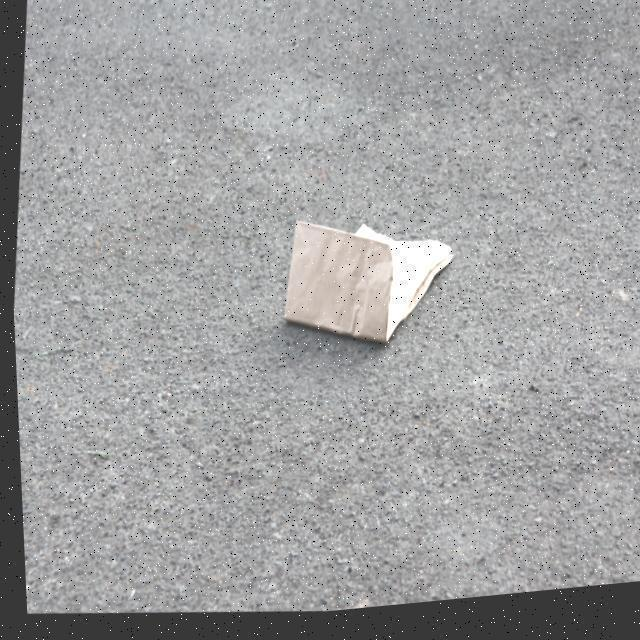Paper_Bag: (273, 211, 457, 364)
